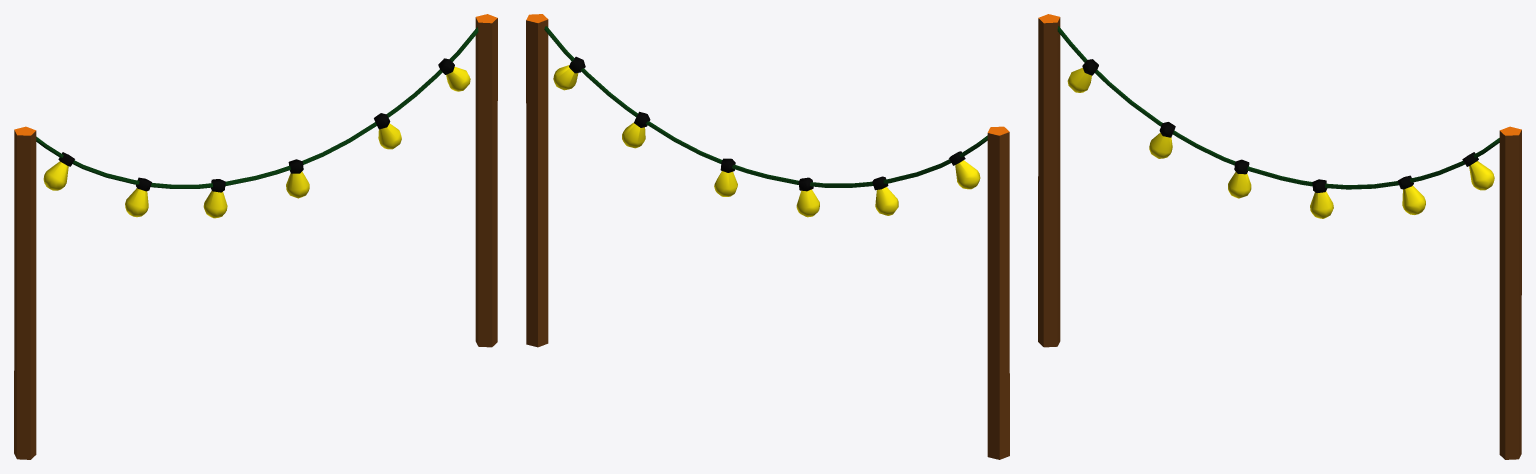
Rendered from LichtMet2Paaltjes.fbx.
3 renders of one model, left to right at view 1: azimuth 30°, elevation 25°; view 2: azimuth 150°, elevation 25°; view 3: azimuth 330°, elevation 25°, orthographic.
Visible parts, largest first — view 1: Paal, Paal_1, Null_12; view 2: Paal, Paal_1, Null_12; view 3: Paal_1, Paal, Null_12.
Boxes of the visible parts, x1,y1,x2,y2 form: Paal: [14, 130, 36, 459]; Paal_1: [475, 17, 497, 347]; Null_12: [36, 27, 478, 218]; Paal: [987, 132, 1009, 459]; Paal_1: [526, 19, 548, 347]; Null_12: [544, 26, 987, 217]; Paal_1: [1499, 130, 1521, 459]; Paal: [1038, 17, 1060, 347]; Null_12: [1057, 26, 1499, 218].
Bounding box in the file's own units: 151 × 97.38 × 6.32.
